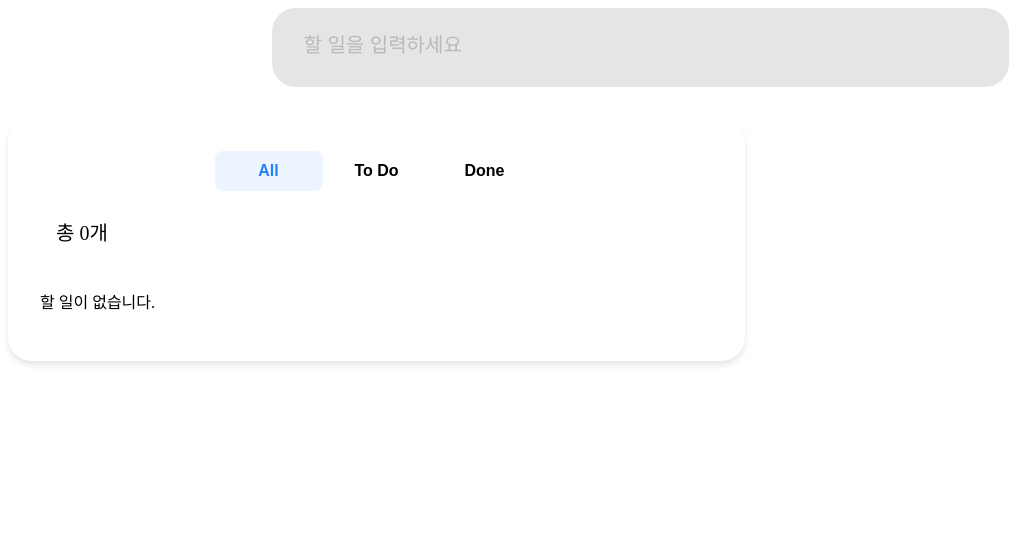
Test: TodoList Component › 필터 버튼을 클릭하면 필터링된 항목만 표시된다
In the field with placeholder "할 일을 입력하세요": (640, 48) 272,8 -> 1008,87, type "할 일 1"
Press Enter in the field with placeholder "할 일을 입력하세요", box 272,8 -> 1008,87
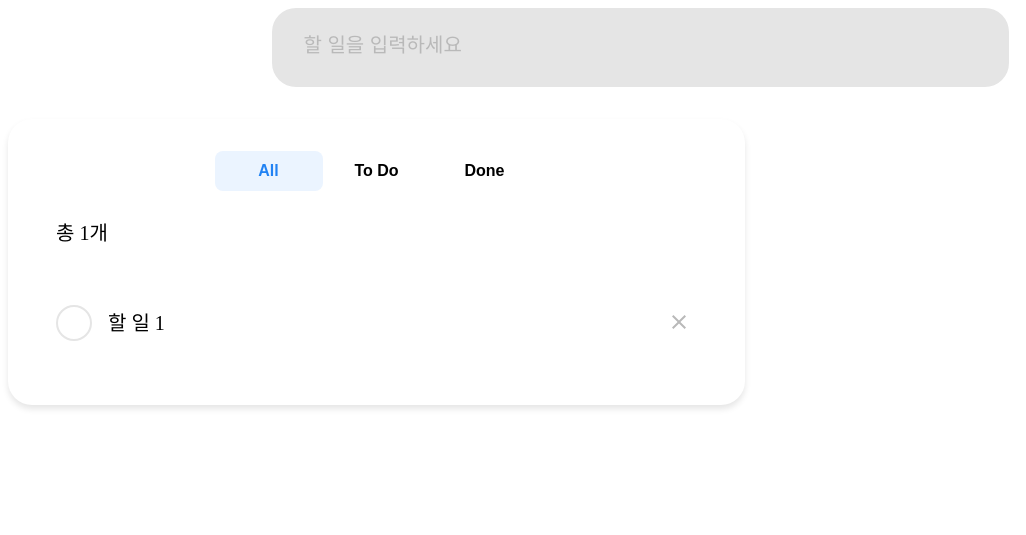
In the field with placeholder "할 일을 입력하세요": (640, 48) 272,8 -> 1008,87, type "할 일 2"
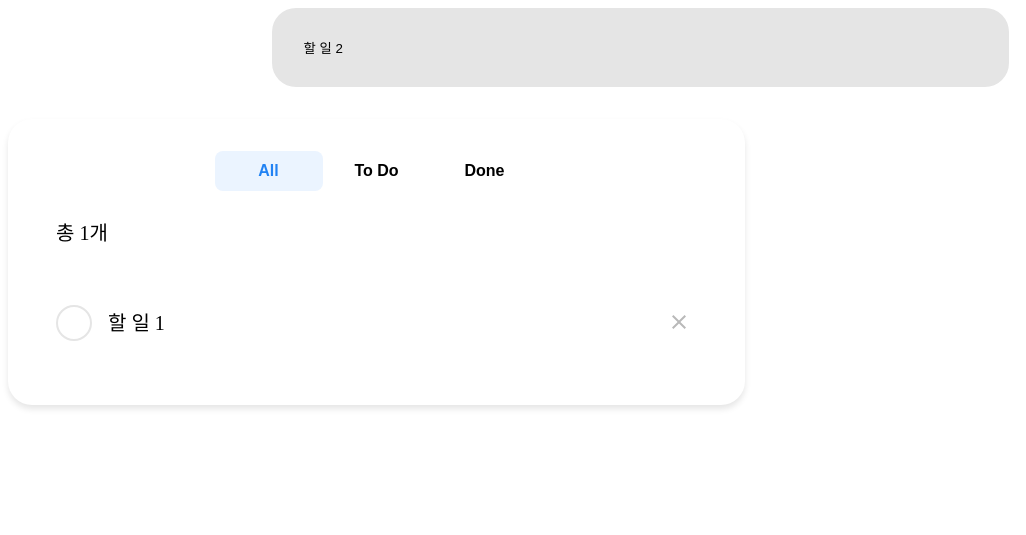
Press Enter in the field with placeholder "할 일을 입력하세요", box 272,8 -> 1008,87
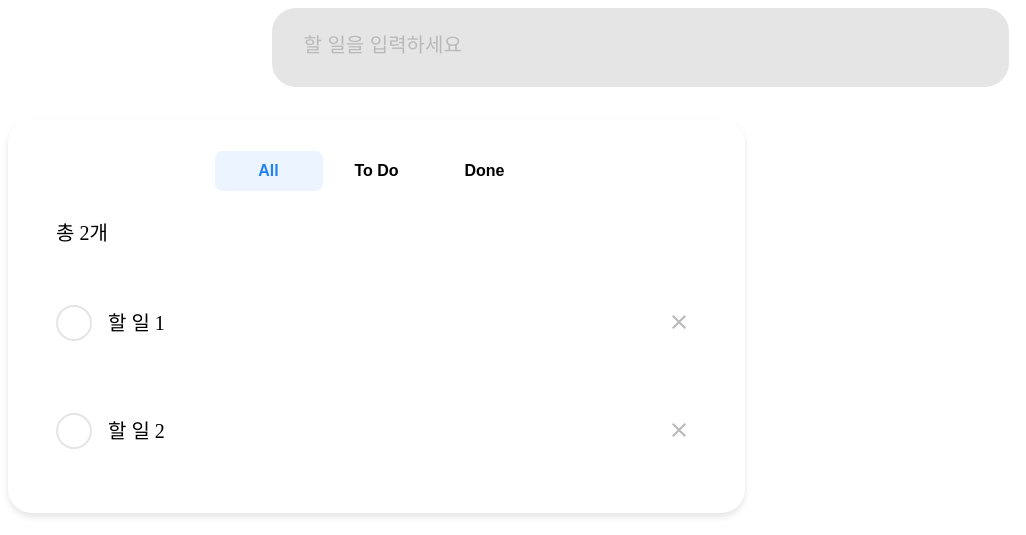
Click the element with test id "check-button" next to "할 일 1": (74, 323) 56,305 -> 92,341
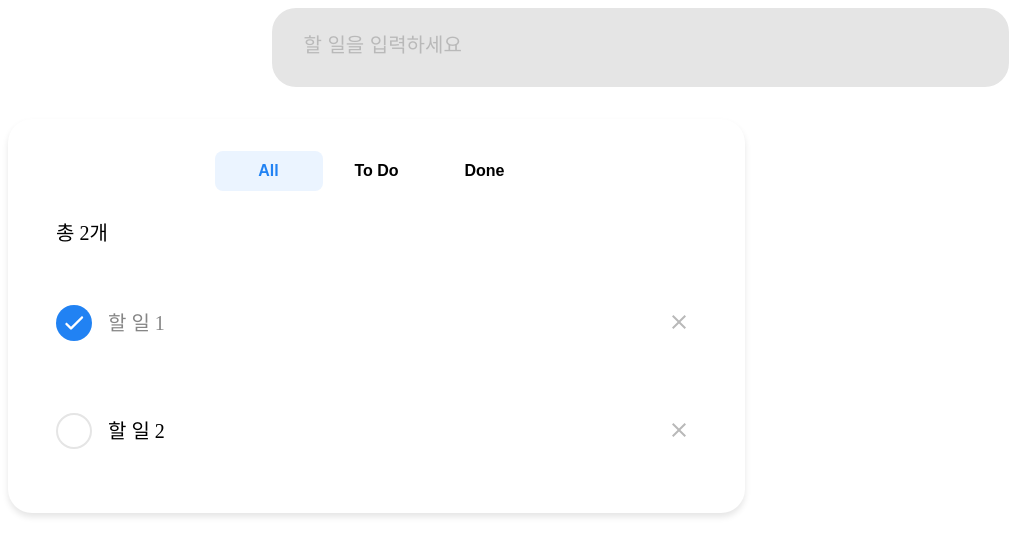
Click the button "Done": (484, 171) 430,151 -> 538,191
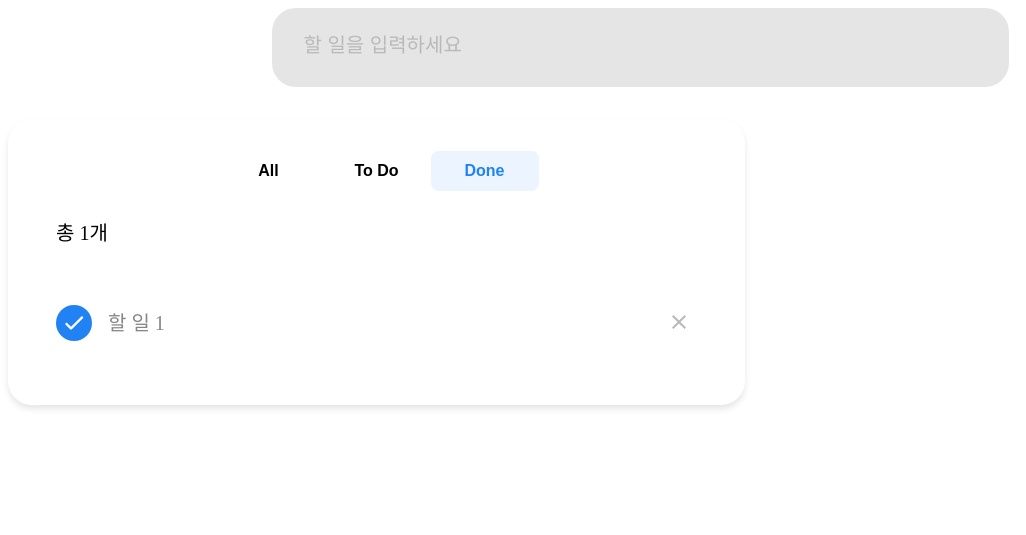
Expected: the text "할 일 1" is shown, 108,309 -> 165,337
Expected: the text "할 일 2" is gone
Click the button "To Do": (376, 171) 322,151 -> 430,191
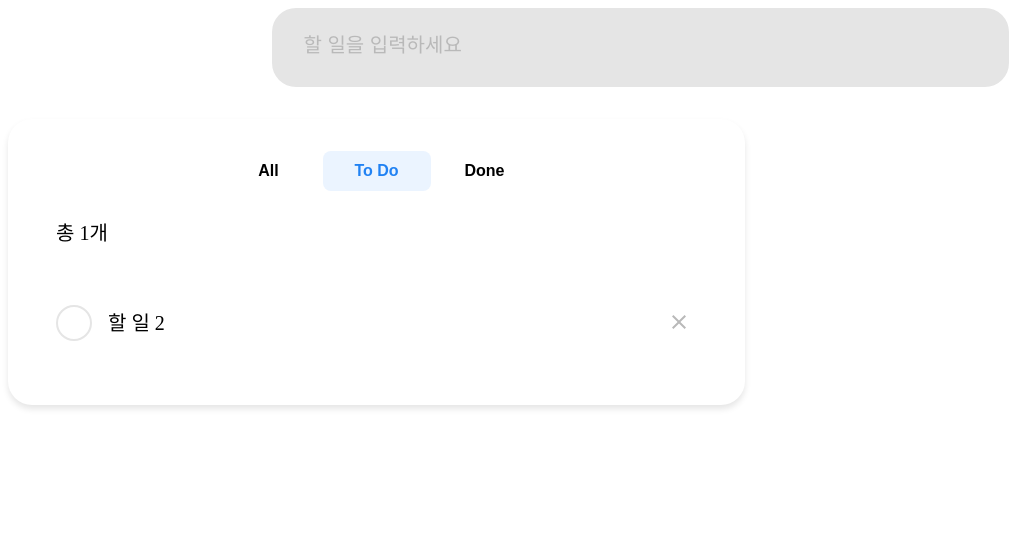
Expected: the text "할 일 2" is shown, 108,309 -> 165,337
Expected: the text "할 일 1" is gone
